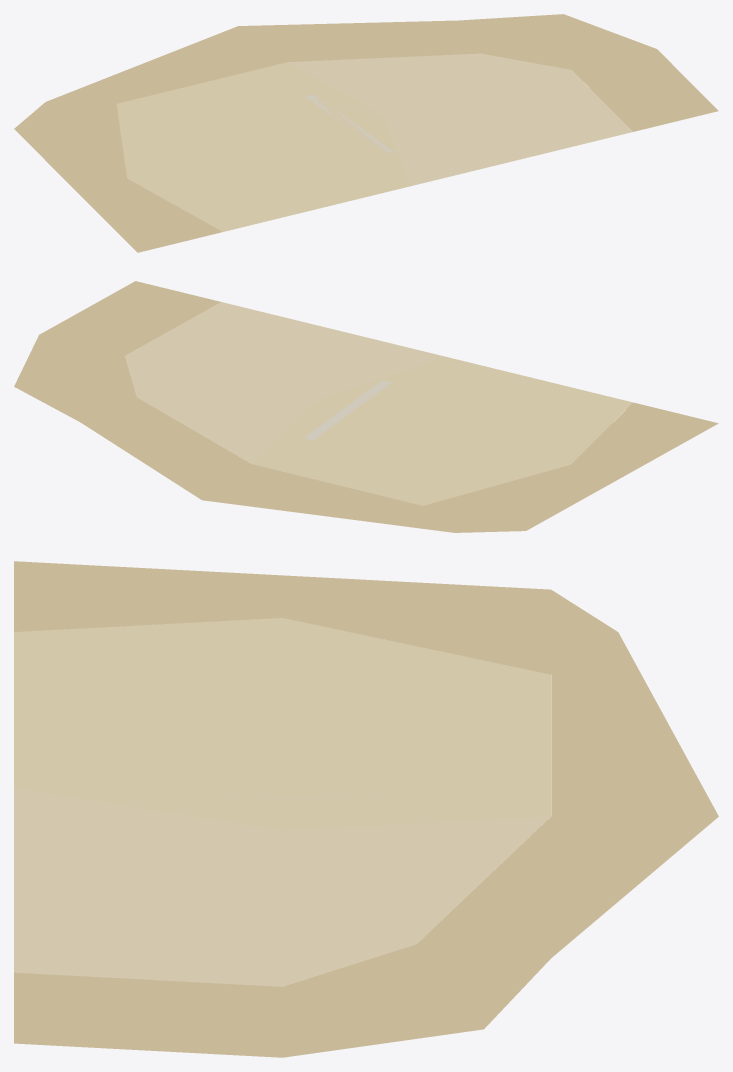
The model's file is drode.glb.
3 renders of one model, top to bottom at view 1: azimuth 30°, elevation 25°; view 2: azimuth 150°, elevation 25°; view 3: azimuth 270°, elevation 25°, orthographic. The views are drawn at different scales.
Visible parts, largest first — view 1: drode; view 2: drode; view 3: drode.
Boxes of the visible parts, x1,y1,x2,y2 form: drode: (14, 14, 718, 252); drode: (14, 281, 718, 532); drode: (14, 561, 718, 1057).
Bounding box in the file's own units: 24.5 × 3.26e-15 × 14.7.
